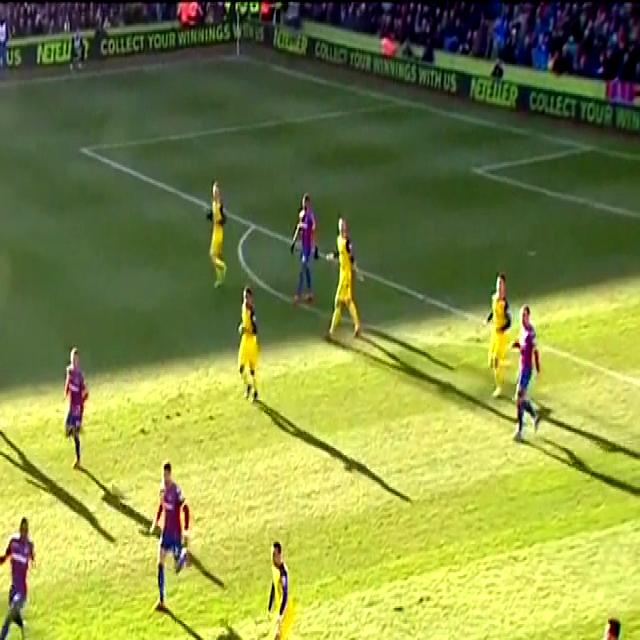referee: (0, 300, 2, 436)
soccer-player: (148, 462, 204, 618), (500, 303, 546, 442), (0, 499, 41, 640), (329, 212, 370, 345), (252, 531, 301, 640), (282, 185, 324, 312), (56, 344, 96, 477), (481, 268, 521, 397), (234, 285, 270, 406), (202, 175, 233, 290), (588, 610, 639, 640)
